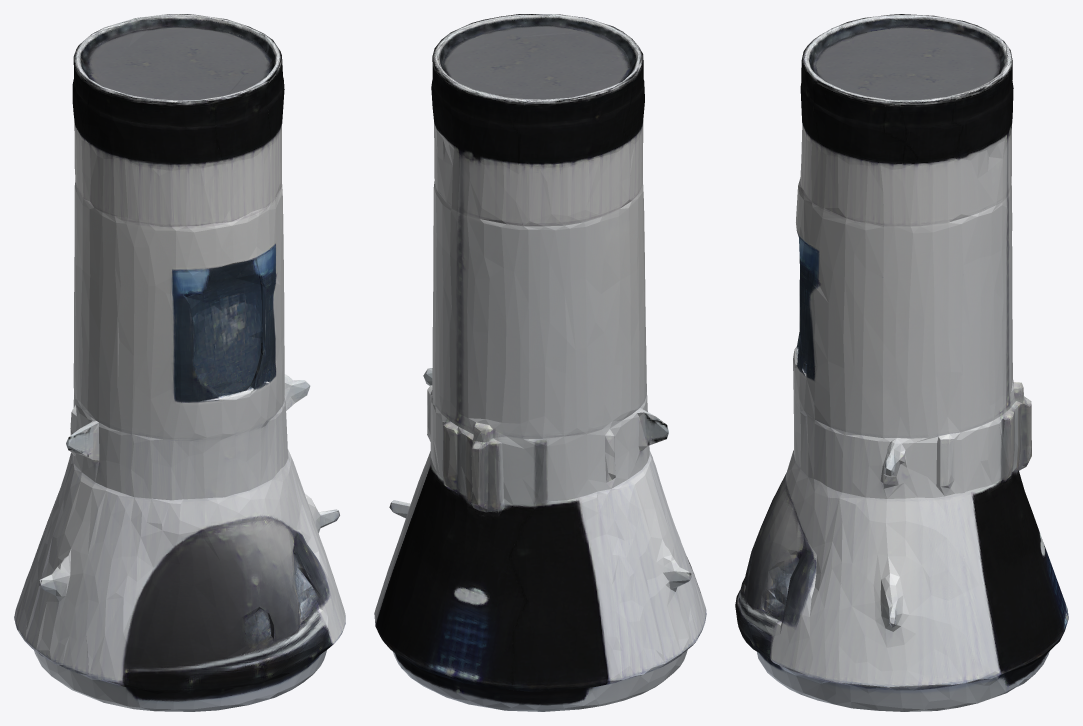
3 views of the same model, side by side, from view 1: azimuth 30°, elevation 25°; view 2: azimuth 150°, elevation 25°; view 3: azimuth 270°, elevation 25° (orthographic).
Visible parts, largest first — view 1: world; view 2: world; view 3: world.
Boxes of the visible parts, x1,y1,x2,y2 form: world: (14,14,345,711); world: (374,14,706,711); world: (735,14,1068,711).
Bounding box in the file's own units: 0.3809 × 0.7223 × 0.3662.
Materials: 1 (1 with a texture image).
